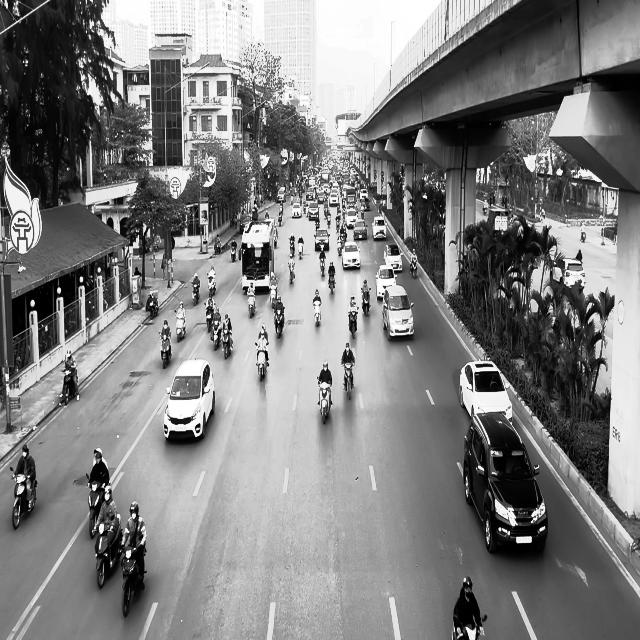bus: (241, 218, 275, 293)
car: (462, 411, 548, 554), (163, 358, 215, 441), (458, 360, 512, 425), (382, 284, 414, 341), (375, 264, 397, 300), (342, 242, 361, 270), (383, 244, 402, 272), (314, 228, 330, 251), (372, 217, 387, 240)
motorbike: (94, 513, 122, 589), (120, 544, 147, 617), (9, 466, 37, 529), (85, 474, 107, 538), (451, 614, 487, 639), (59, 368, 79, 406), (317, 376, 332, 424), (254, 341, 268, 381), (158, 330, 172, 369), (342, 362, 354, 399), (173, 309, 186, 342), (274, 303, 284, 338), (211, 319, 222, 350), (147, 292, 159, 318), (222, 328, 232, 359), (348, 308, 358, 338), (361, 287, 371, 316), (205, 301, 214, 331), (312, 298, 321, 326), (247, 292, 256, 318), (207, 273, 216, 297), (192, 282, 200, 305), (328, 272, 335, 294), (270, 287, 277, 308), (288, 262, 295, 283), (410, 259, 417, 278), (319, 255, 325, 276), (230, 242, 236, 262), (298, 240, 303, 259)
